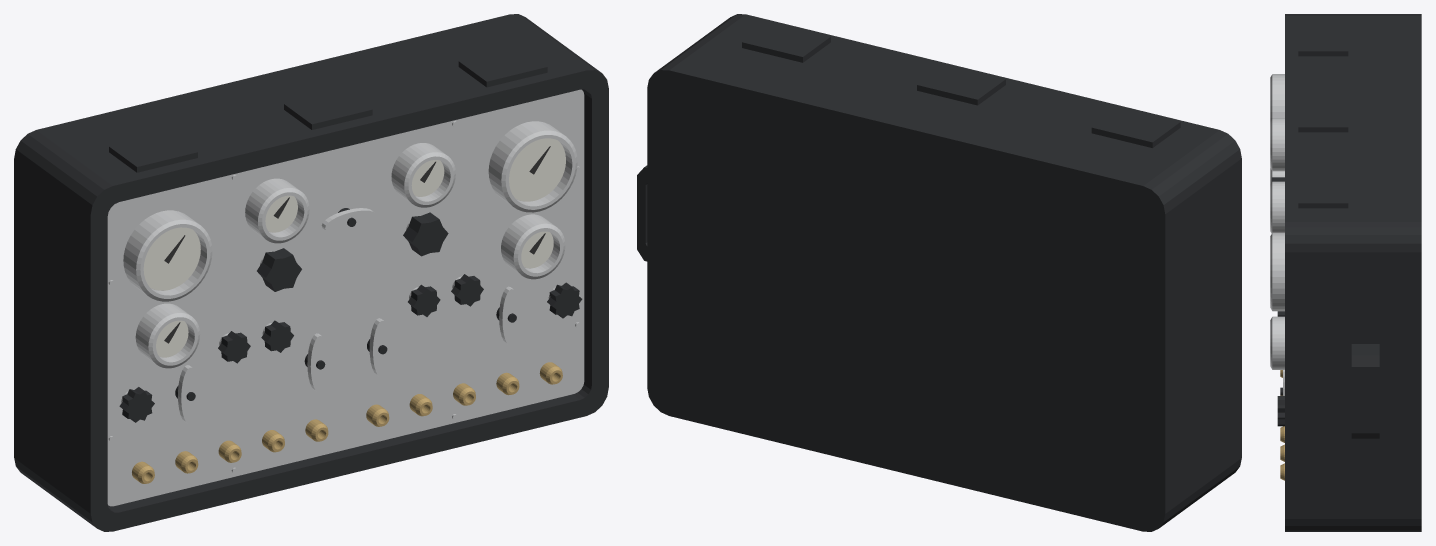
3 views of the same model, side by side, from view 1: azimuth 30°, elevation 25°; view 2: azimuth 150°, elevation 25°; view 3: azimuth 270°, elevation 25° (orthographic). The views are drawn at different scales.
Parts seen in each view (by area): view 1: Inset_metal_panel, Closed_case_estimated_back, Raised_case_rim, Gauge_0_recessed_body, Gauge_1_recessed_body, Gauge_0_face, Gauge_1_face, Gauge_5_recessed_body, Gauge_2_recessed_body, Gauge_3_recessed_body, Gauge_4_recessed_body, Case_latch_2_1 (+19 smaller); view 2: Closed_case_estimated_back, Raised_case_rim, Case_latch_0_1, Case_latch_1_1, Case_latch_2_1, Right_carry_handle; view 3: Closed_case_estimated_back, Raised_case_rim, Right_carry_handle, Case_latch_0_1, Case_latch_1_1, Case_latch_2_1, Gauge_1_recessed_body, Gauge_2_recessed_body, Gauge_5_recessed_body, Gauge_3_recessed_body, Gauge_0_recessed_body, Knob_7_scalloped_grip.
Part boxes in pixels (x1,y1,x2,y2): Inset_metal_panel: (107,89,584,506); Closed_case_estimated_back: (14,14,589,519); Raised_case_rim: (79,61,608,531); Gauge_0_recessed_body: (123,210,212,301); Gauge_1_recessed_body: (488,121,577,212); Gauge_0_face: (143,227,200,290); Gauge_1_face: (509,138,565,201); Gauge_5_recessed_body: (501,214,565,279); Gauge_2_recessed_body: (245,178,309,243); Gauge_3_recessed_body: (391,143,455,207); Gauge_4_recessed_body: (135,303,200,368); Case_latch_2_1: (458,46,547,87); Closed_case_estimated_back: (647,22,1230,531); Raised_case_rim: (719,14,1241,480); Case_latch_0_1: (1091,107,1180,147); Case_latch_1_1: (917,64,1005,105); Case_latch_2_1: (742,22,830,62); Right_carry_handle: (637,165,647,261); Closed_case_estimated_back: (1305,14,1421,531); Raised_case_rim: (1285,14,1305,531); Right_carry_handle: (1351,344,1379,438); Case_latch_0_1: (1298,24,1348,56); Case_latch_1_1: (1298,100,1348,132); Case_latch_2_1: (1298,176,1348,208); Gauge_1_recessed_body: (1270,232,1284,311); Gauge_2_recessed_body: (1270,118,1284,171); Gauge_5_recessed_body: (1270,316,1284,369); Gauge_3_recessed_body: (1270,181,1284,233); Gauge_0_recessed_body: (1270,74,1284,120); Knob_7_scalloped_grip: (1277,396,1284,426).
Size of the model in its own units: 0.852 by 0.527 by 0.227.
